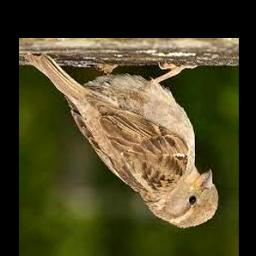Sparrow: (25, 53, 217, 228)
